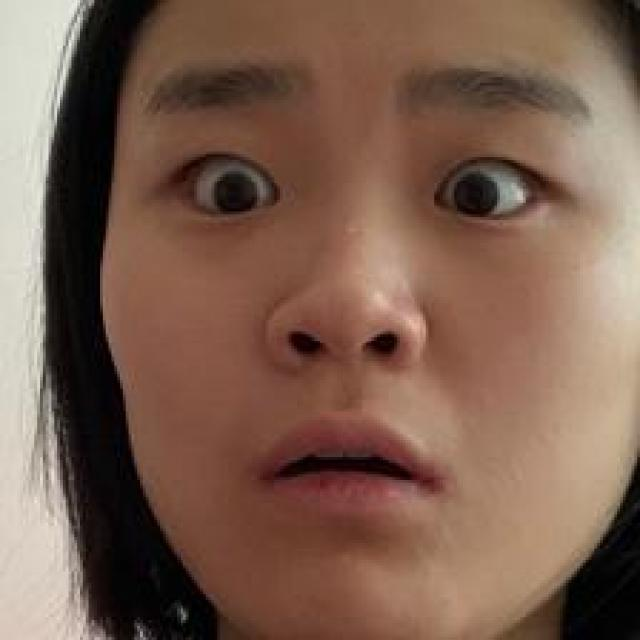Fear: (124, 48, 609, 576)
